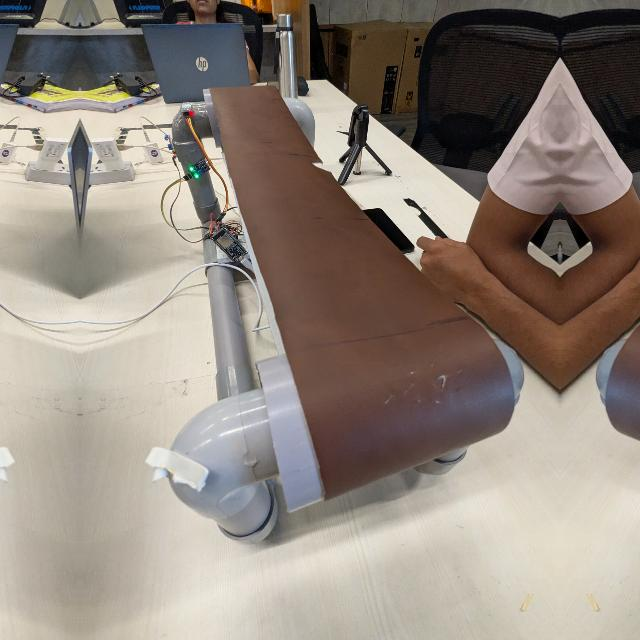belt_crack: (384, 369, 488, 411), (632, 369, 640, 411)
edge_damage: (307, 157, 338, 180)
